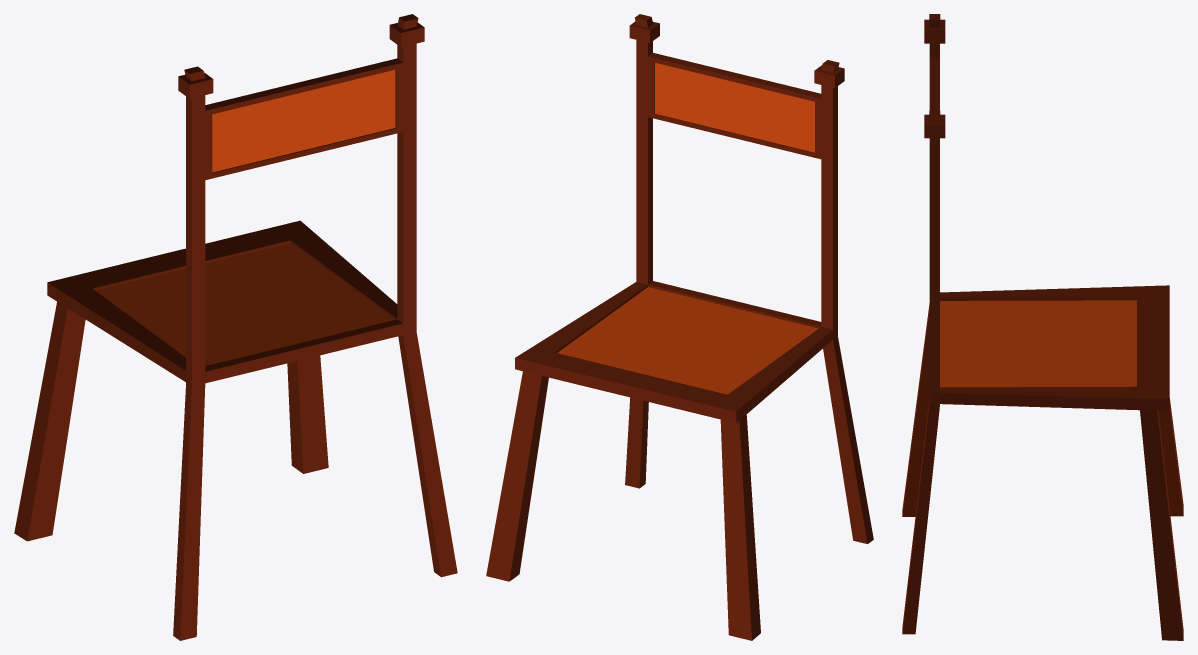
Rendered from Chair 13.fbx.
3 renders of one model, left to right at view 1: azimuth 30°, elevation 25°; view 2: azimuth 150°, elevation 25°; view 3: azimuth 270°, elevation 25°, orthographic. The views are drawn at different scales.
Parts seen in each view (by area): view 1: Node 0; view 2: Node 0; view 3: Node 0.
Part boxes in pixels (x1,y1,x2,y2): Node 0: (14, 14, 457, 640); Node 0: (486, 14, 873, 640); Node 0: (902, 14, 1183, 640).
Size of the model in its own units: 0.6589 by 1.31 by 0.758.
